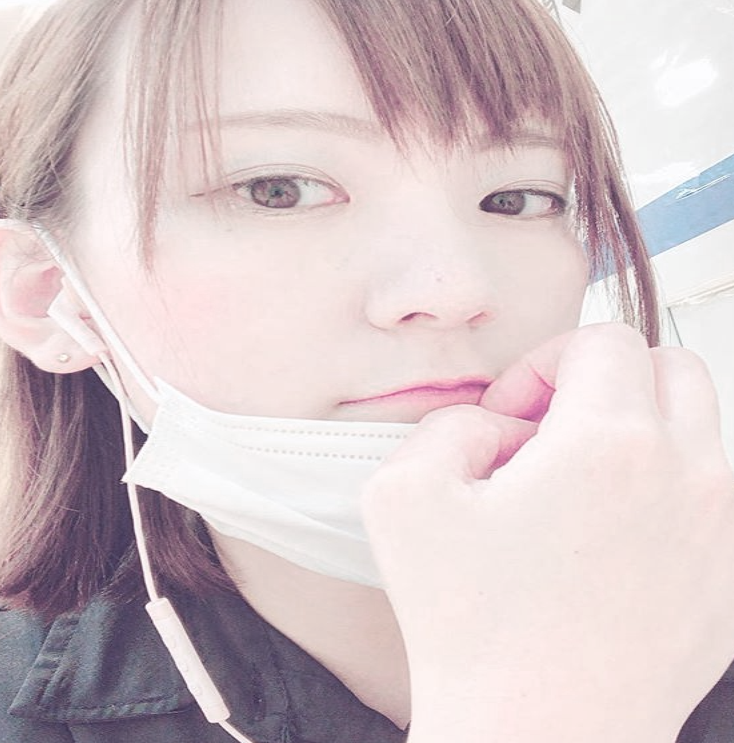mask_weared_incorrect: (1, 1, 596, 575)
